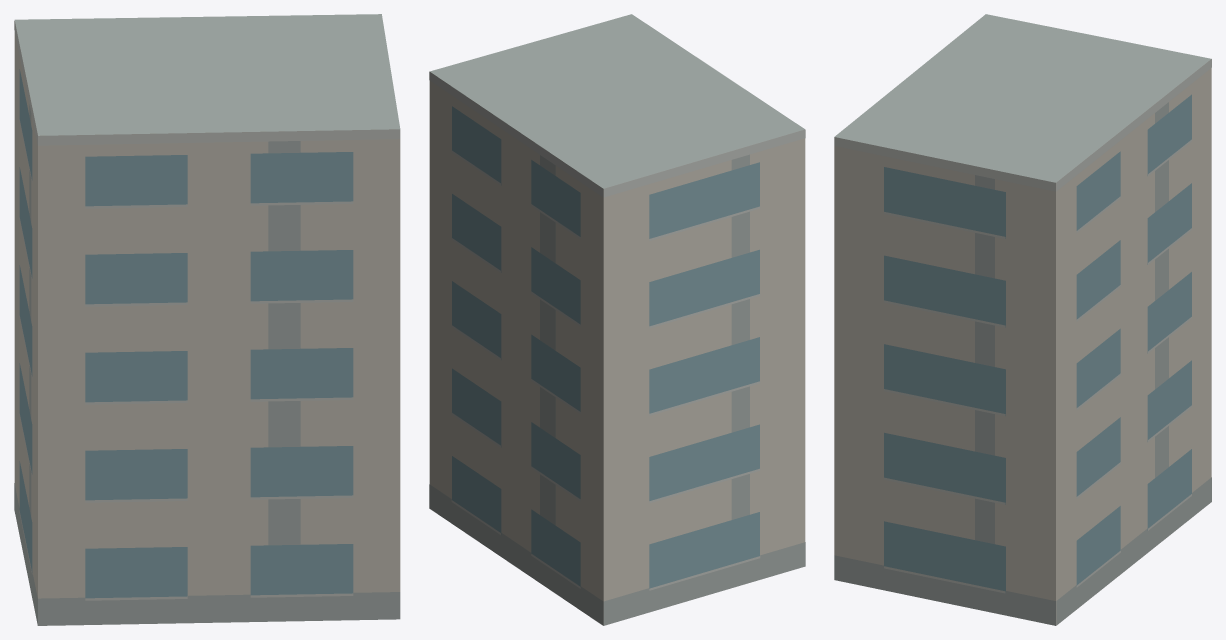
File: survey-upis-32724578.glb
3 renders of one model, left to right at view 1: azimuth 30°, elevation 25°; view 2: azimuth 150°, elevation 25°; view 3: azimuth 270°, elevation 25°, orthographic. The views are drawn at different scales.
Parts seen in each view (by area): view 1: survey-upis-32724578.tmp; view 2: survey-upis-32724578.tmp; view 3: survey-upis-32724578.tmp.
Boxes of the visible parts, box(x1,y1,x2,y2) form: survey-upis-32724578.tmp: box(14, 14, 400, 625); survey-upis-32724578.tmp: box(429, 14, 805, 625); survey-upis-32724578.tmp: box(834, 14, 1211, 625).
Size of the model in its own units: 9.9 by 12.1 by 9.35.
